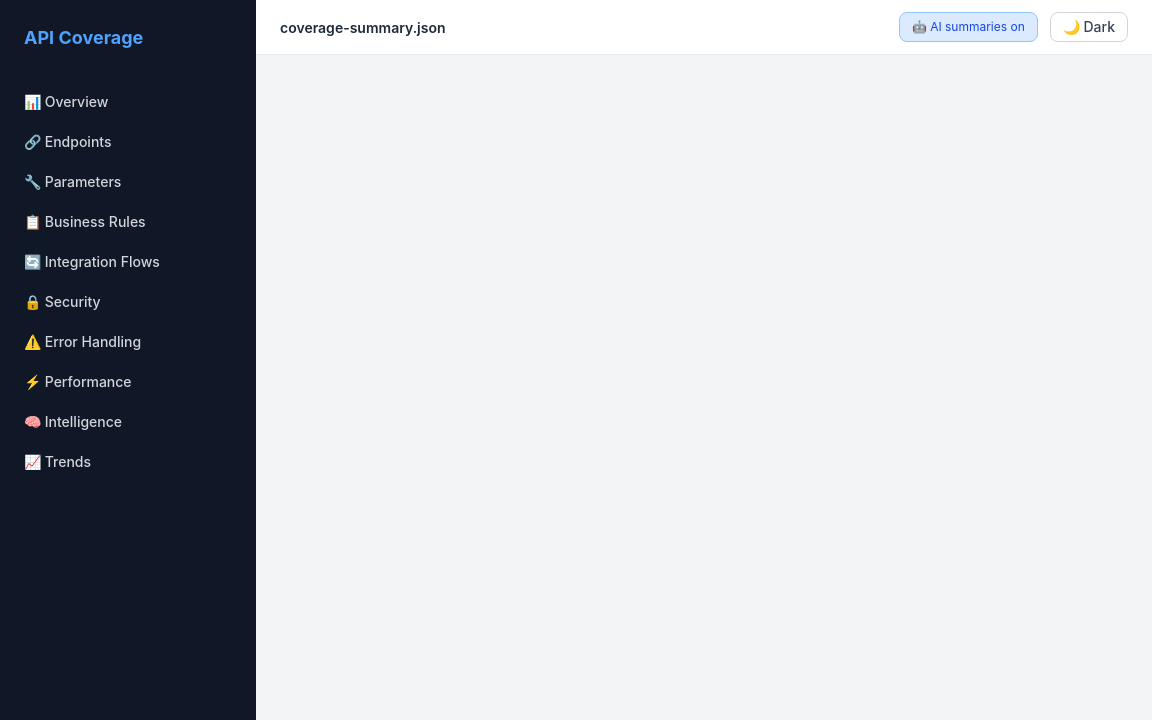
Scenario: Dashboard navigation › navigates to /parameters via sidebar and shows h1 "Parameters"
The width and height of the screenshot is (1152, 720).
Click the link "🔧 Parameters".
click(73, 182)  # box top-left (24, 173), bottom-right (121, 190)
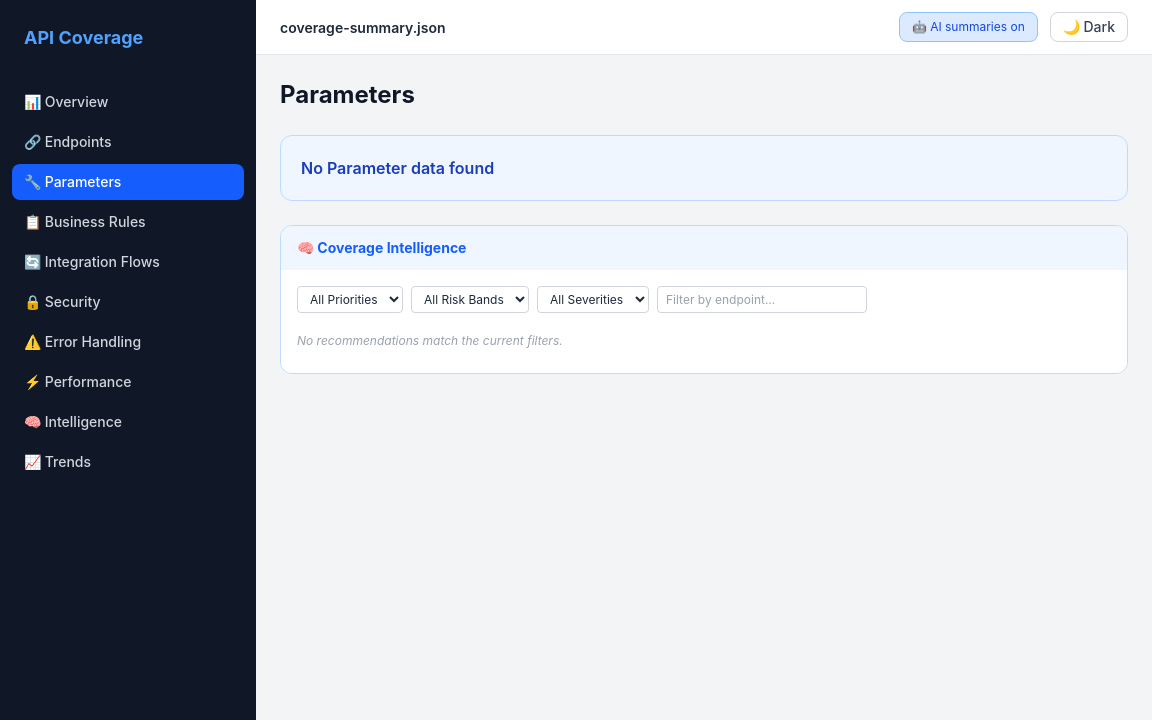
Result: the heading "Parameters" is shown at top-left (280, 80), bottom-right (415, 109)
